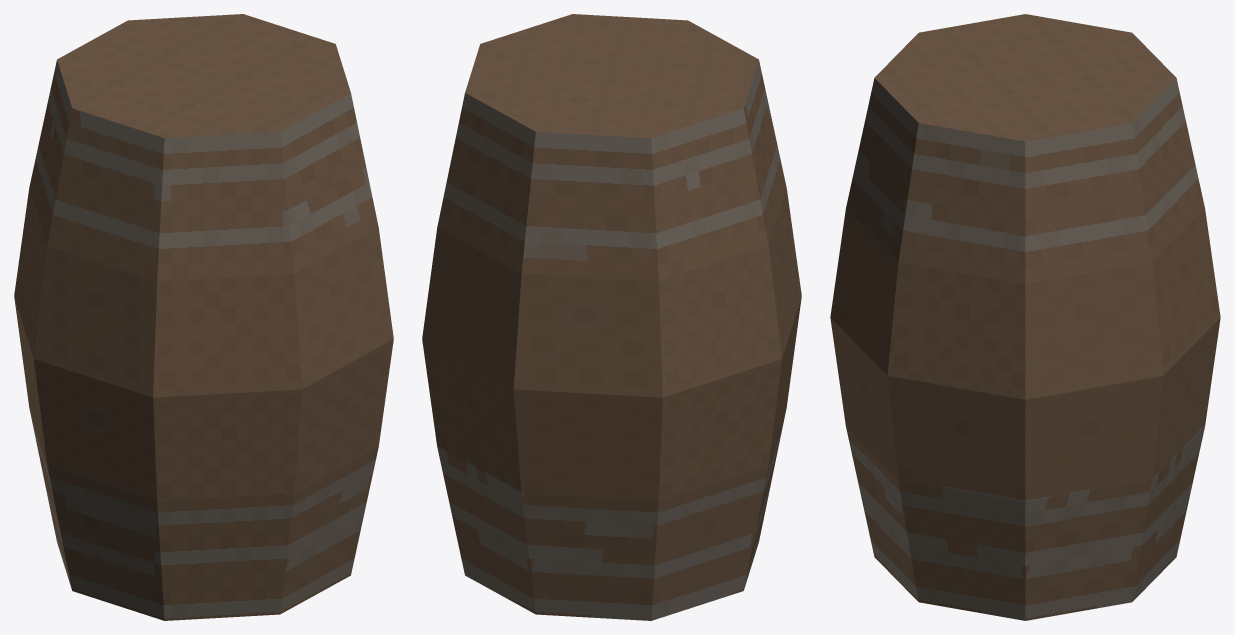
The model's file is barrel.glb.
The picture shows the model from 3 angles, left to right: view 1: azimuth 30°, elevation 25°; view 2: azimuth 150°, elevation 25°; view 3: azimuth 270°, elevation 25°; orthographic projection.
Visible parts, largest first — view 1: Barrel; view 2: Barrel; view 3: Barrel.
Boxes of the visible parts, x1=… form: Barrel: x1=14, y1=14, x2=393, y2=620; Barrel: x1=422, y1=14, x2=801, y2=620; Barrel: x1=830, y1=14, x2=1220, y2=620.
Bounding box in the file's own units: 1.44 × 1.95 × 1.44.
Materials: 1 (1 with a texture image).
